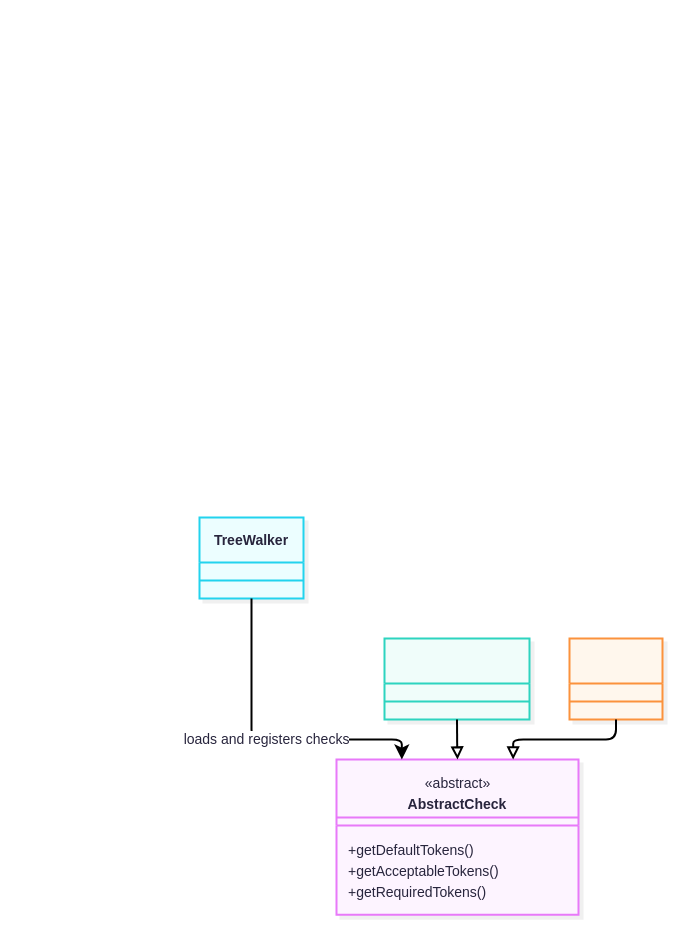
This 684x937 diagram has some shape labels left out. The centre of each missing label's shape, as x and y in pixels:
NeedBracesCheck: pixel 458 680
NewCheck: pixel 617 680
